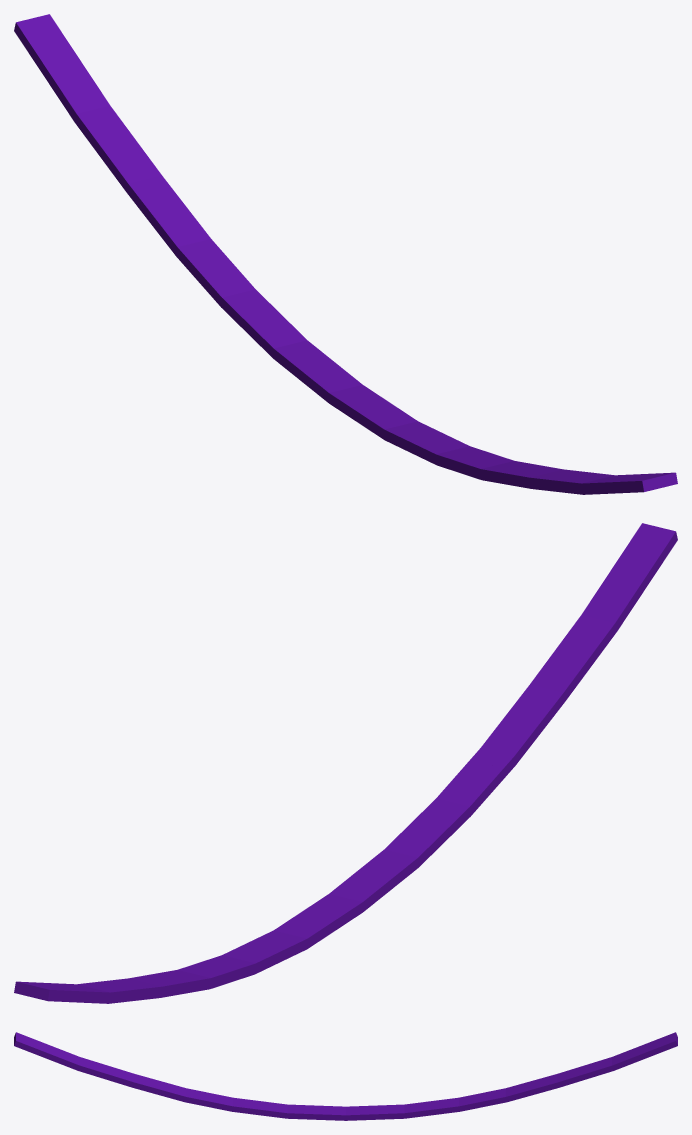
Rendered from Tape_2_chunks.fbx.
3 views of the same model, one above another, from view 1: azimuth 30°, elevation 25°; view 2: azimuth 150°, elevation 25°; view 3: azimuth 270°, elevation 25° (orthographic). The views are drawn at different scales.
Parts seen in each view (by area): view 1: Tape_2_1, Tape_2_0, Tape_2_3, Tape_2_2; view 2: Tape_2_3, Tape_2_0, Tape_2_1, Tape_2_2; view 3: Tape_2_1, Tape_2_3, Tape_2_0, Tape_2_2.
Boxes of the visible parts, left/top/right/bottom form: Tape_2_1: left=14, top=14, right=310, bottom=381; Tape_2_0: left=302, top=374, right=492, bottom=481; Tape_2_3: left=477, top=453, right=677, bottom=494; Tape_2_2: left=190, top=212, right=357, bottom=380; Tape_2_3: left=456, top=523, right=677, bottom=775; Tape_2_0: left=324, top=751, right=526, bottom=929; Tape_2_1: left=14, top=916, right=340, bottom=1003; Tape_2_2: left=158, top=897, right=335, bottom=973; Tape_2_1: left=369, top=1032, right=677, bottom=1106; Tape_2_3: left=14, top=1032, right=211, bottom=1103; Tape_2_0: left=191, top=1089, right=369, bottom=1120; Tape_2_2: left=351, top=1090, right=540, bottom=1120.
Bounding box in the file's own units: 24.08 × 103 × 776.
